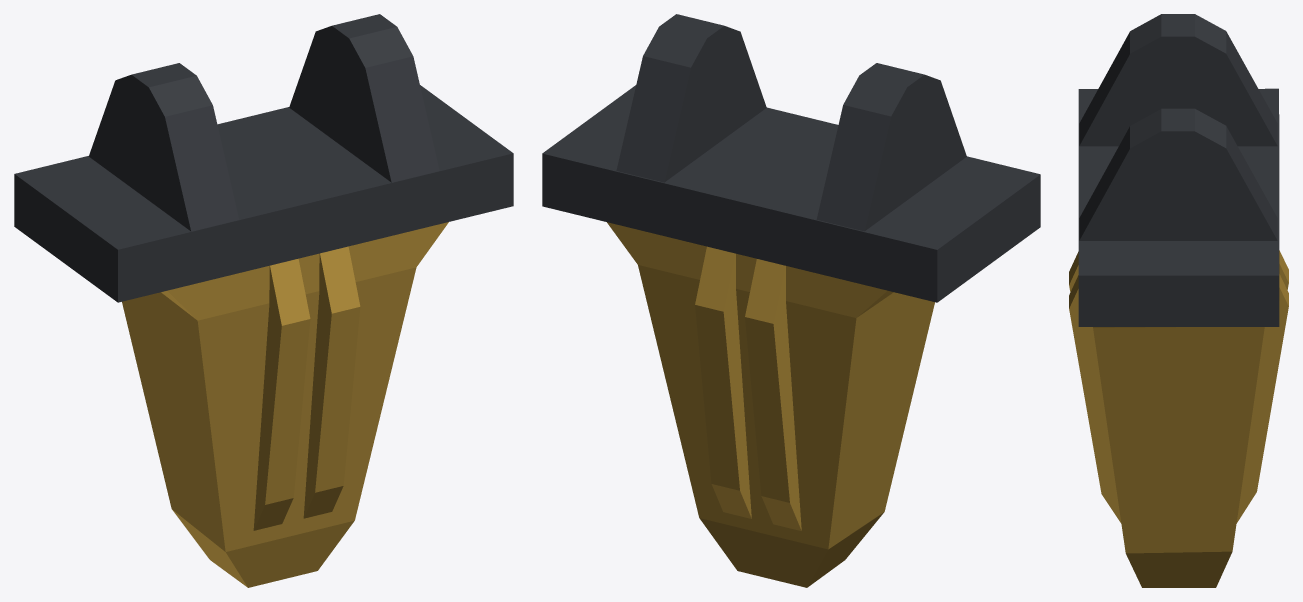
File: SM_Veh_Excavator_02_Breaker_01.obj
3 views of the same model, side by side, from view 1: azimuth 30°, elevation 25°; view 2: azimuth 150°, elevation 25°; view 3: azimuth 270°, elevation 25° (orthographic). The views are drawn at different scales.
Visible parts, largest first — view 1: SM_Veh_Excavator_02_Breaker_01_0; view 2: SM_Veh_Excavator_02_Breaker_01_0; view 3: SM_Veh_Excavator_02_Breaker_01_0.
Boxes of the visible parts, <box> form: SM_Veh_Excavator_02_Breaker_01_0: <box>14,14,513,587</box>; SM_Veh_Excavator_02_Breaker_01_0: <box>542,14,1040,587</box>; SM_Veh_Excavator_02_Breaker_01_0: <box>1069,14,1288,587</box>.
Bounding box in the file's own units: 0.4231 × 0.5266 × 0.2103.
1 material, 1 textured.
